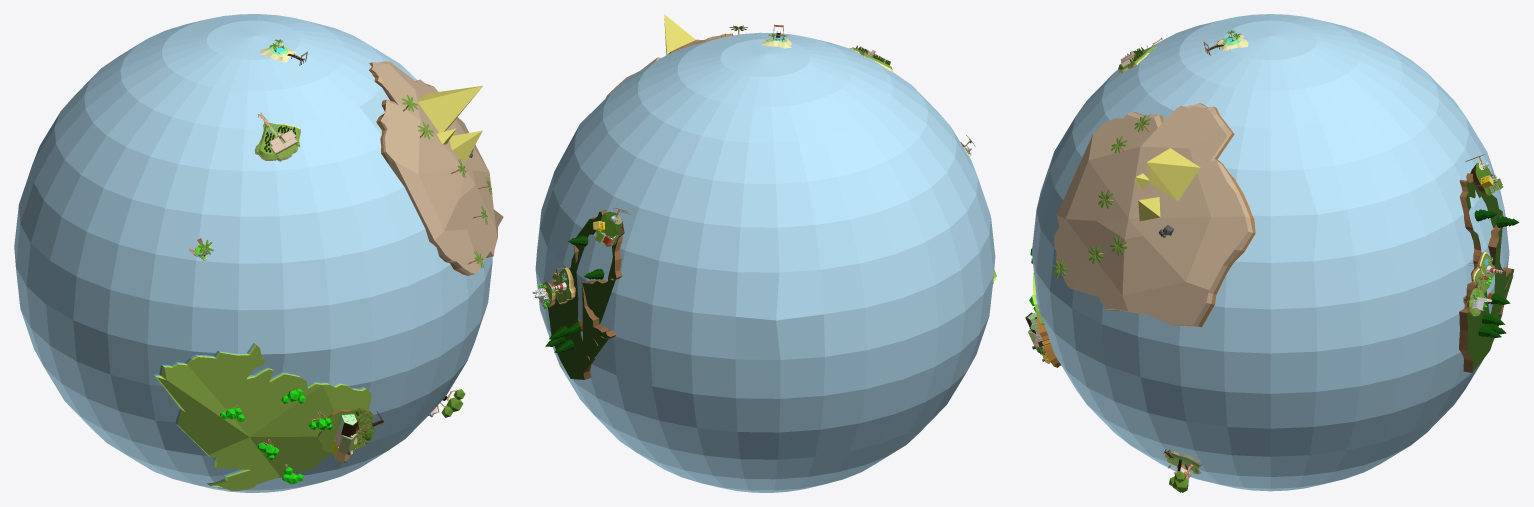
File: Mapa_redondo 1.fbx
The picture shows the model from 3 angles, left to right: view 1: azimuth 30°, elevation 25°; view 2: azimuth 150°, elevation 25°; view 3: azimuth 270°, elevation 25°; orthographic projection. The views are drawn at different scales.
Parts seen in each view (by area): view 1: MUNDO, Mapa_Brasil, DESERTO, BRASIL, SANTACRUZ, MADEIRA; view 2: MUNDO, Cadiz, DESERTO; view 3: MUNDO, DESERTO, Cadiz, SANTA_HELENA, BRASIL.
Part boxes in pixels (x1,y1,x2,y2): MUNDO: (14, 14, 492, 492); Mapa_Brasil: (154, 343, 371, 490); DESERTO: (369, 61, 503, 275); BRASIL: (318, 408, 384, 463); SANTACRUZ: (254, 112, 300, 161); MADEIRA: (260, 39, 307, 65); MUNDO: (535, 32, 995, 492); Cadiz: (532, 207, 629, 379); DESERTO: (606, 14, 747, 97); MUNDO: (1031, 14, 1509, 491); DESERTO: (1052, 103, 1255, 327); Cadiz: (1459, 154, 1519, 372); SANTA_HELENA: (1163, 449, 1202, 492); BRASIL: (1025, 312, 1061, 367).
Bounding box in the file's own units: 30296 × 30681 × 31354.
